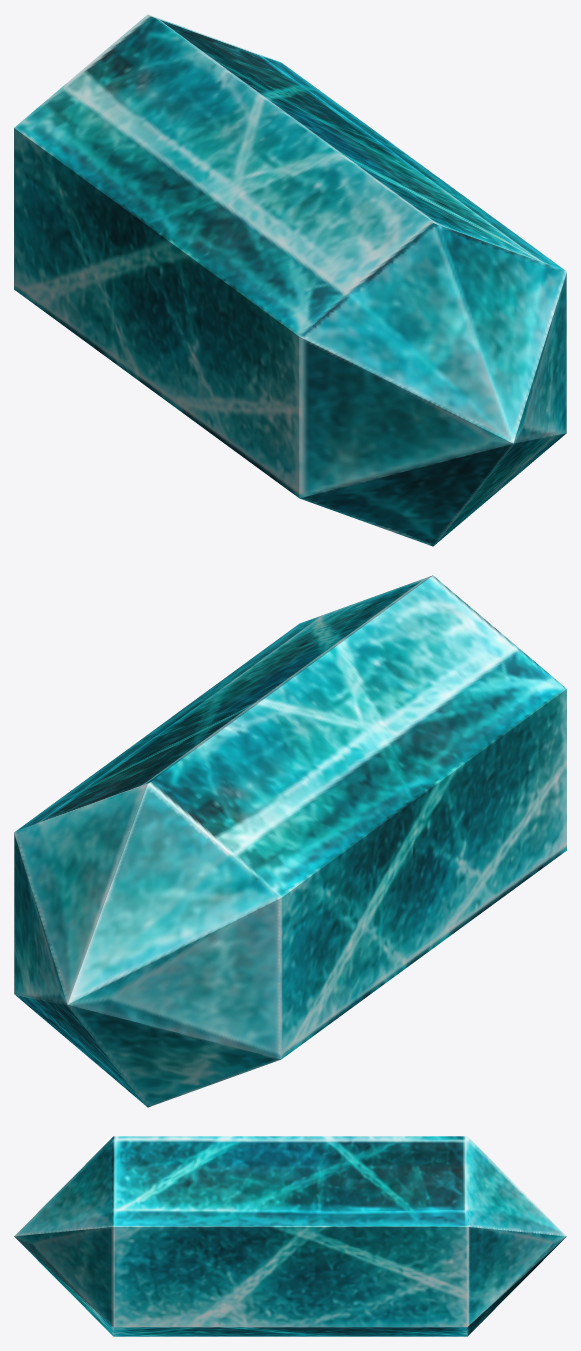
The model's file is item_maw_craft_gem08.glb.
3 renders of one model, top to bottom at view 1: azimuth 30°, elevation 25°; view 2: azimuth 150°, elevation 25°; view 3: azimuth 270°, elevation 25°, orthographic. The views are drawn at different scales.
Parts seen in each view (by area): view 1: maw_gem08; view 2: maw_gem08; view 3: maw_gem08.
Part boxes in pixels (x1,y1,x2,y2): maw_gem08: (14, 14, 566, 546); maw_gem08: (14, 575, 566, 1107); maw_gem08: (14, 1136, 566, 1336).
Size of the model in its own units: 0.866 by 1 by 2.5.
Materials: 1 (1 with a texture image).
